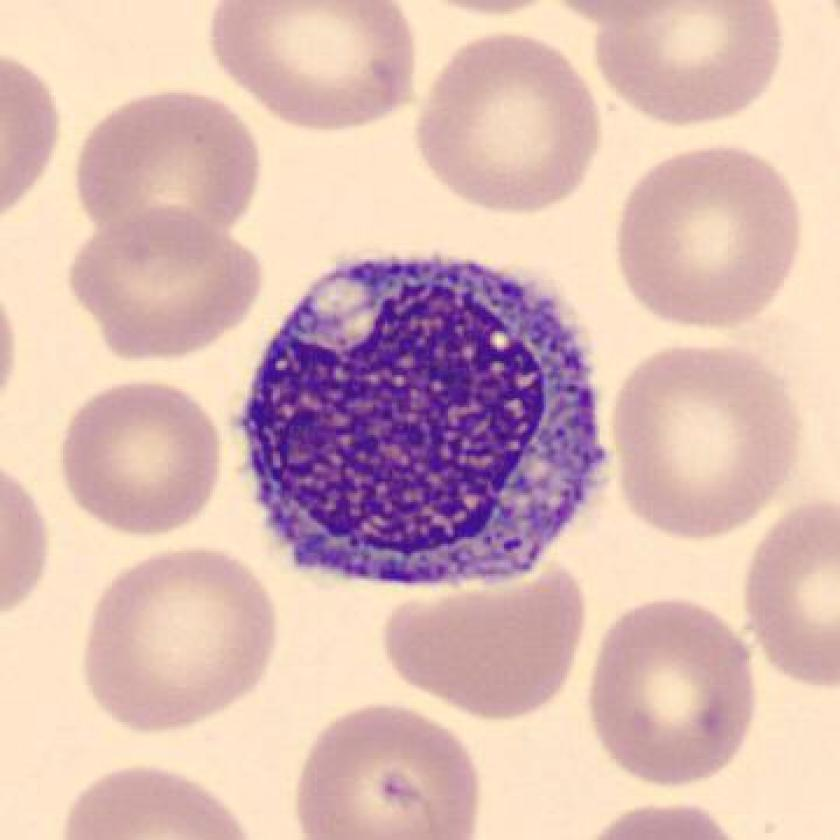monocyte: (214, 235, 627, 617)
